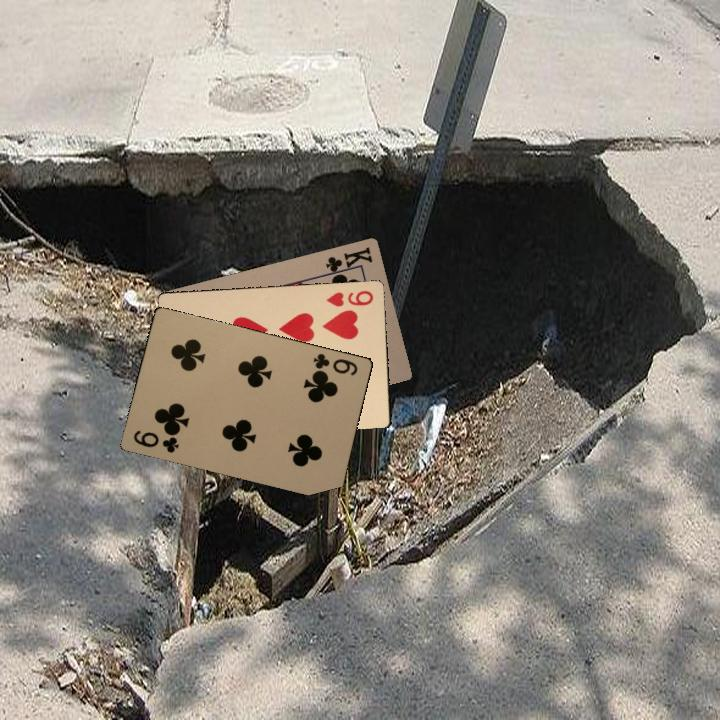6c: (129, 426, 181, 456), (309, 349, 360, 378)
9h: (322, 286, 376, 309)
Kc: (321, 243, 375, 278)
